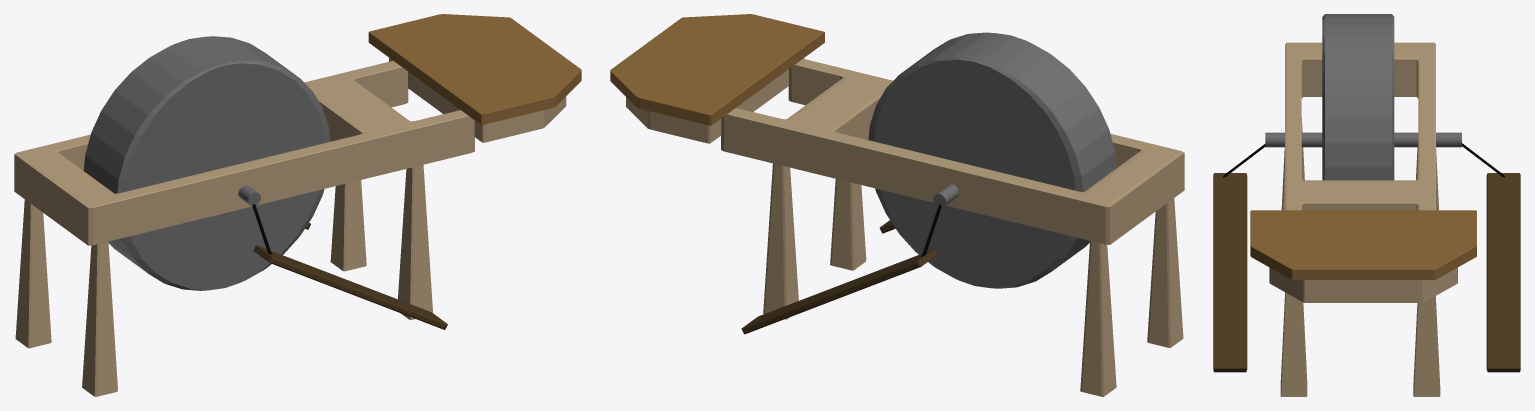
The model's file is Grind Stone.fbx.
3 views of the same model, side by side, from view 1: azimuth 30°, elevation 25°; view 2: azimuth 150°, elevation 25°; view 3: azimuth 270°, elevation 25° (orthographic).
Parts seen in each view (by area): view 1: Grindstone; view 2: Grindstone; view 3: Grindstone.
Boxes of the visible parts, x1=… form: Grindstone: x1=14, y1=14, x2=581, y2=396; Grindstone: x1=610, y1=14, x2=1184, y2=396; Grindstone: x1=1213, y1=14, x2=1520, y2=396.
Bounding box in the file's own units: 1129 × 609 × 606.
